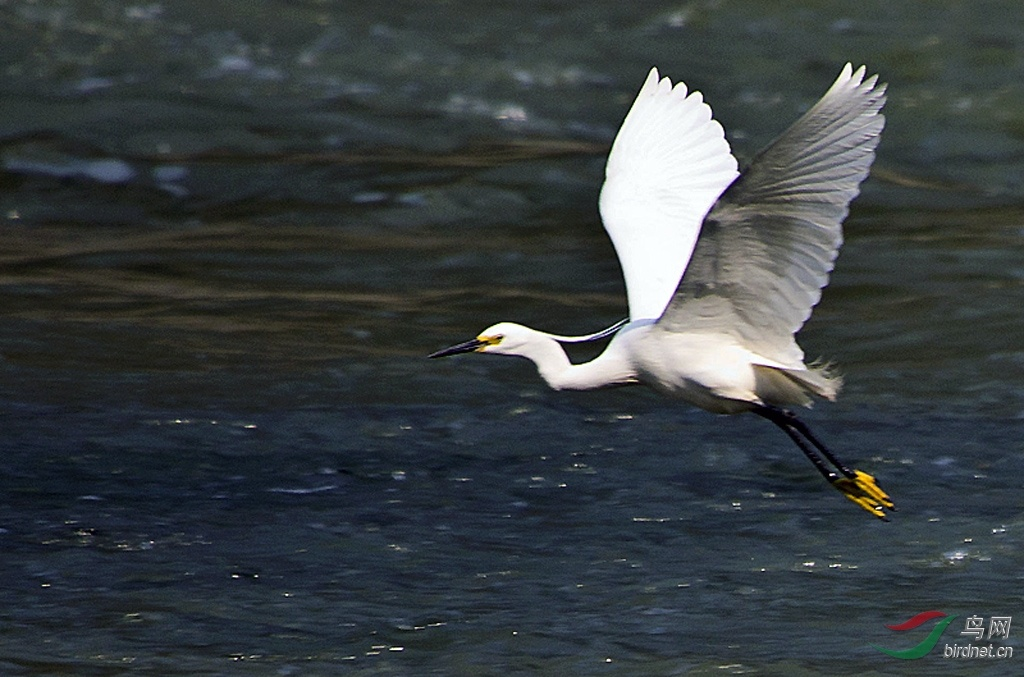warship: (434, 59, 901, 518)
